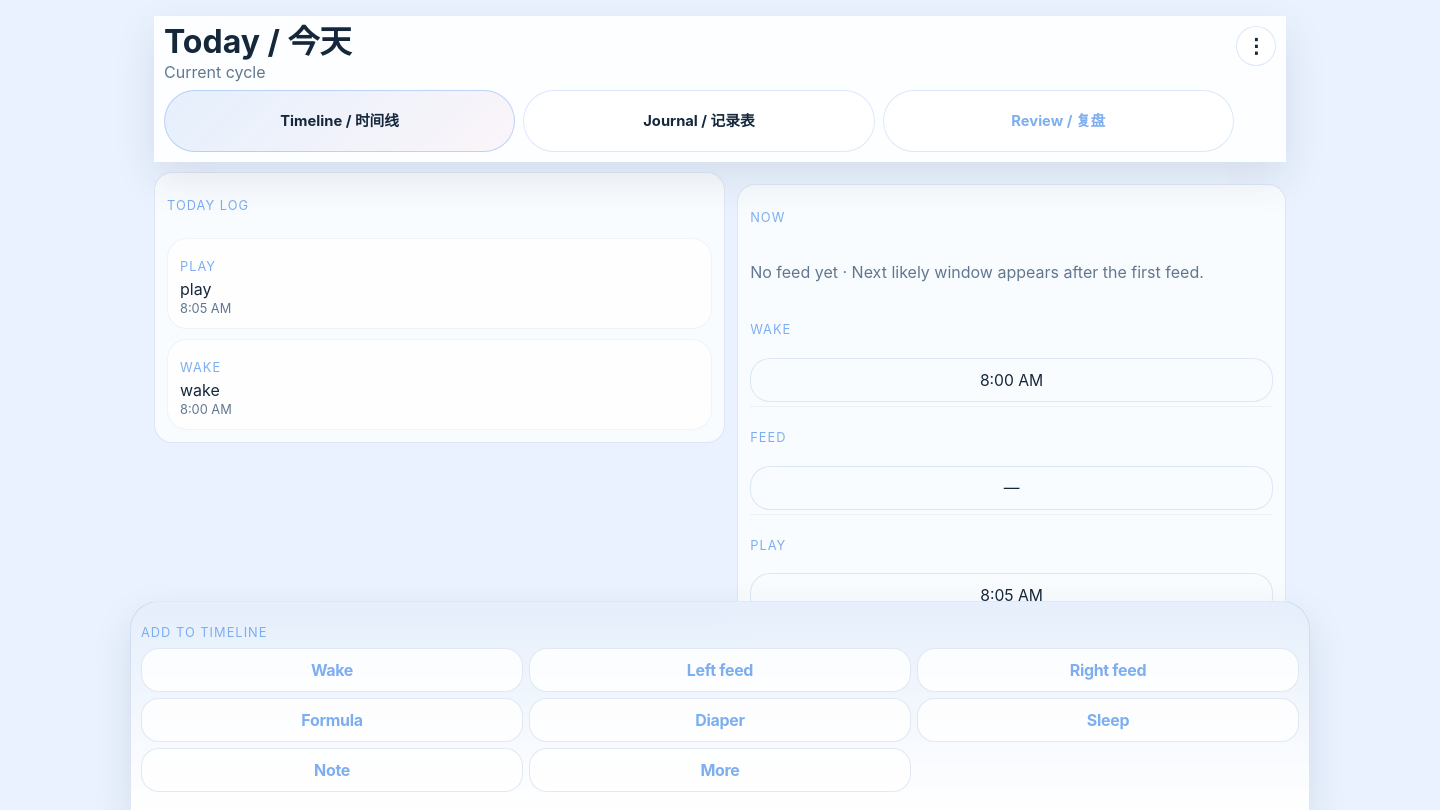
Test: correction delete parity › delete from Journal removes the value from Timeline and Journal projections
This screenshot has width=1440, height=810.
expect the list with test id "live-timeline-items" is shown: met, box [167,238,712,430]
Click the button "Journal / 记录表" at (699, 121), box [523,90,875,152]
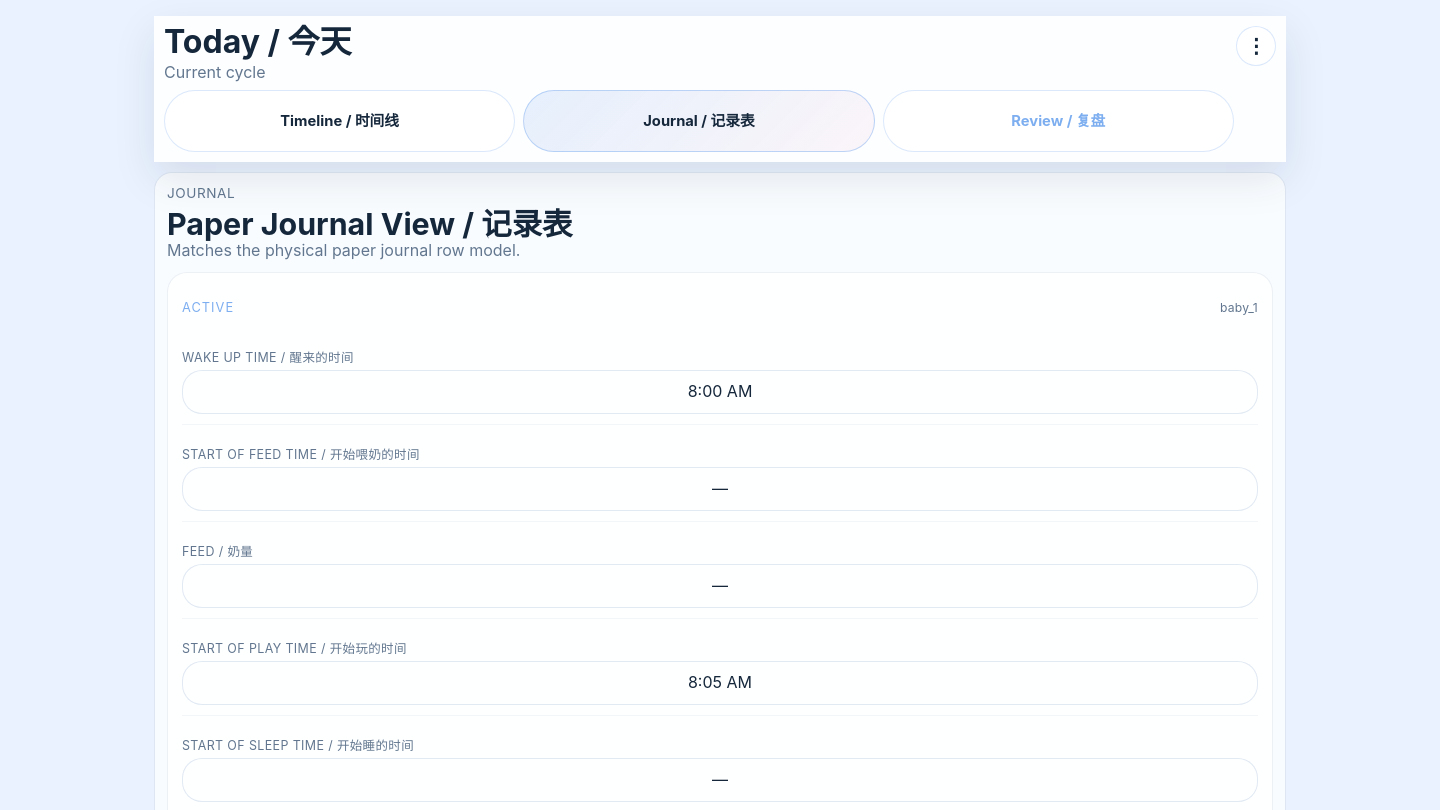
Click the button with test id "paper-journal-cell-wakeUpTime" at (720, 392), box [182,370,1258,414]
(page scrolled)
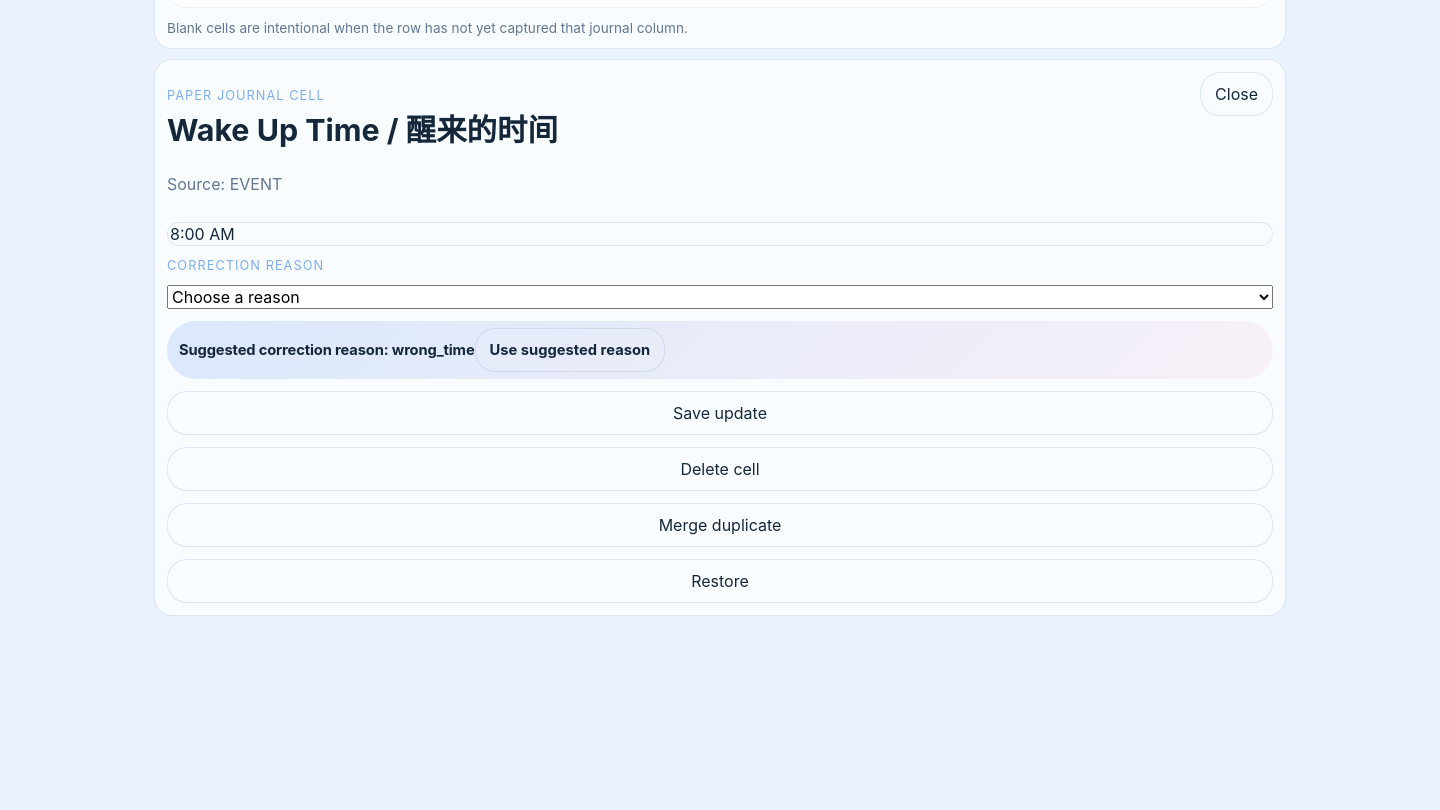
expect the element with test id "paper-journal-cell-edit-sheet" is shown: met, box [154,59,1286,616]
Click the button "Delete cell" at (720, 469), box [167,447,1273,491]
(page scrolled)
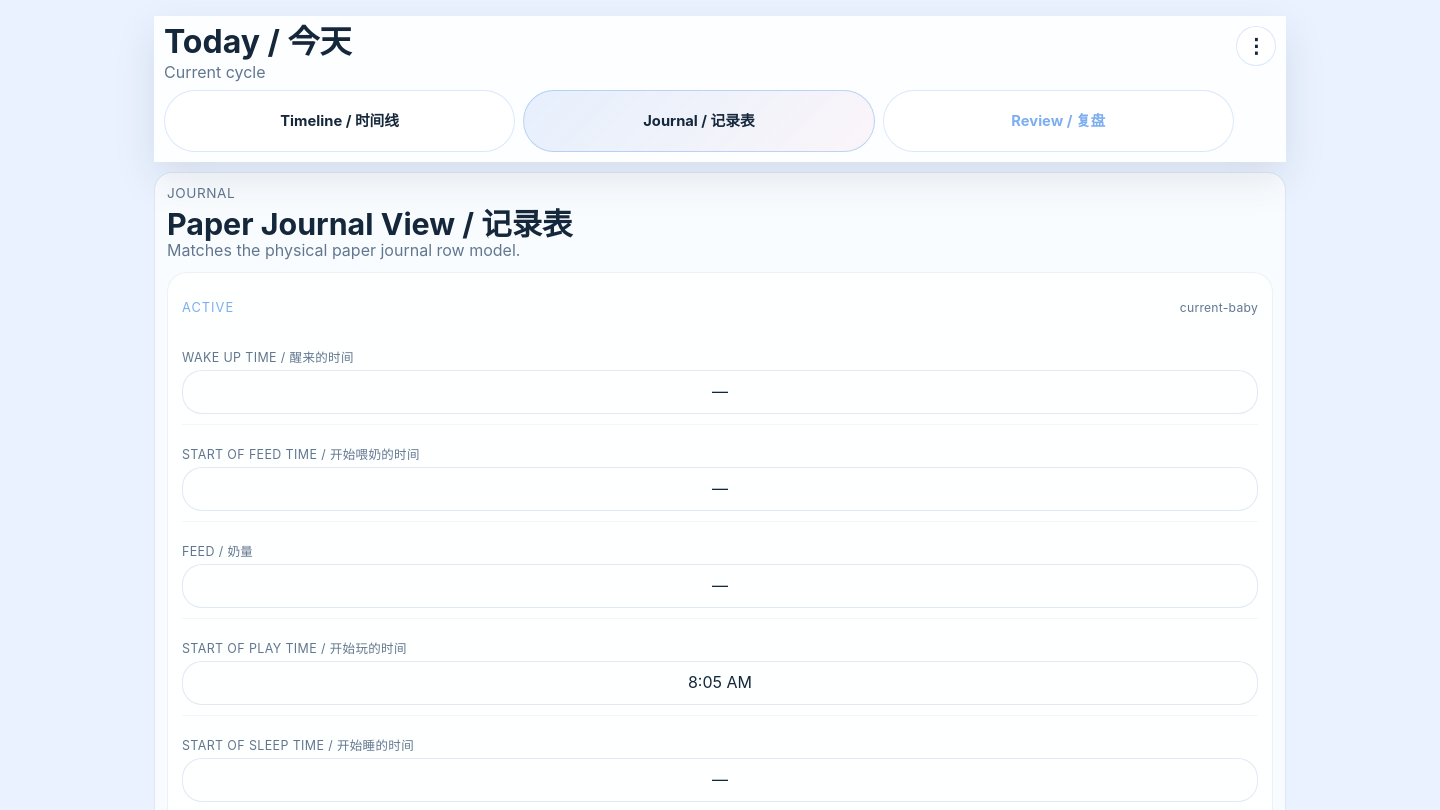
Click the button "Timeline / 时间线" at (340, 121), box [164,90,515,152]
(page scrolled)
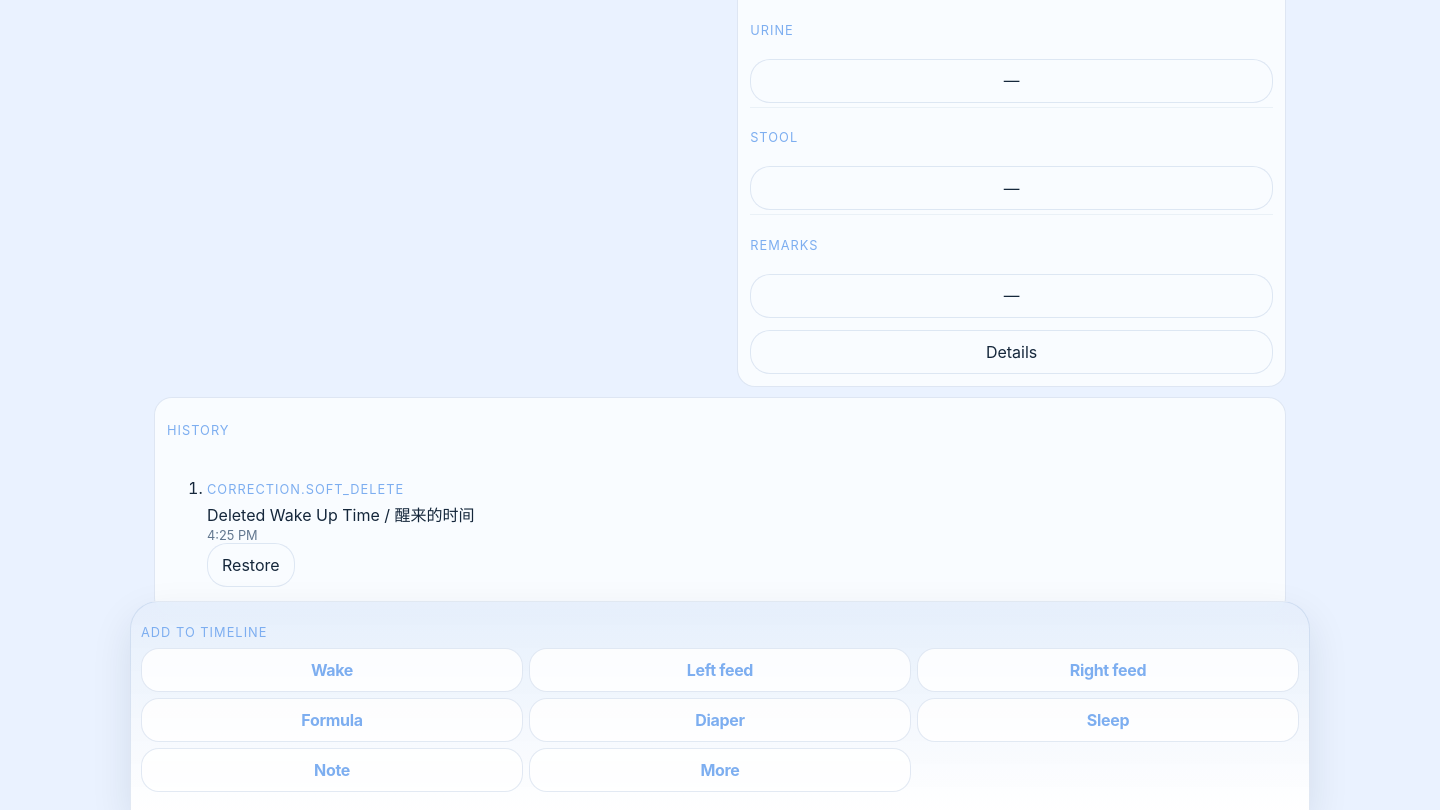
expect the list with test id "correction-history-items" shows "correction.soft_delete": met, box [207,482,404,497]
Click the button "Restore" at (251, 565), box [207,543,295,587]
(page scrolled)
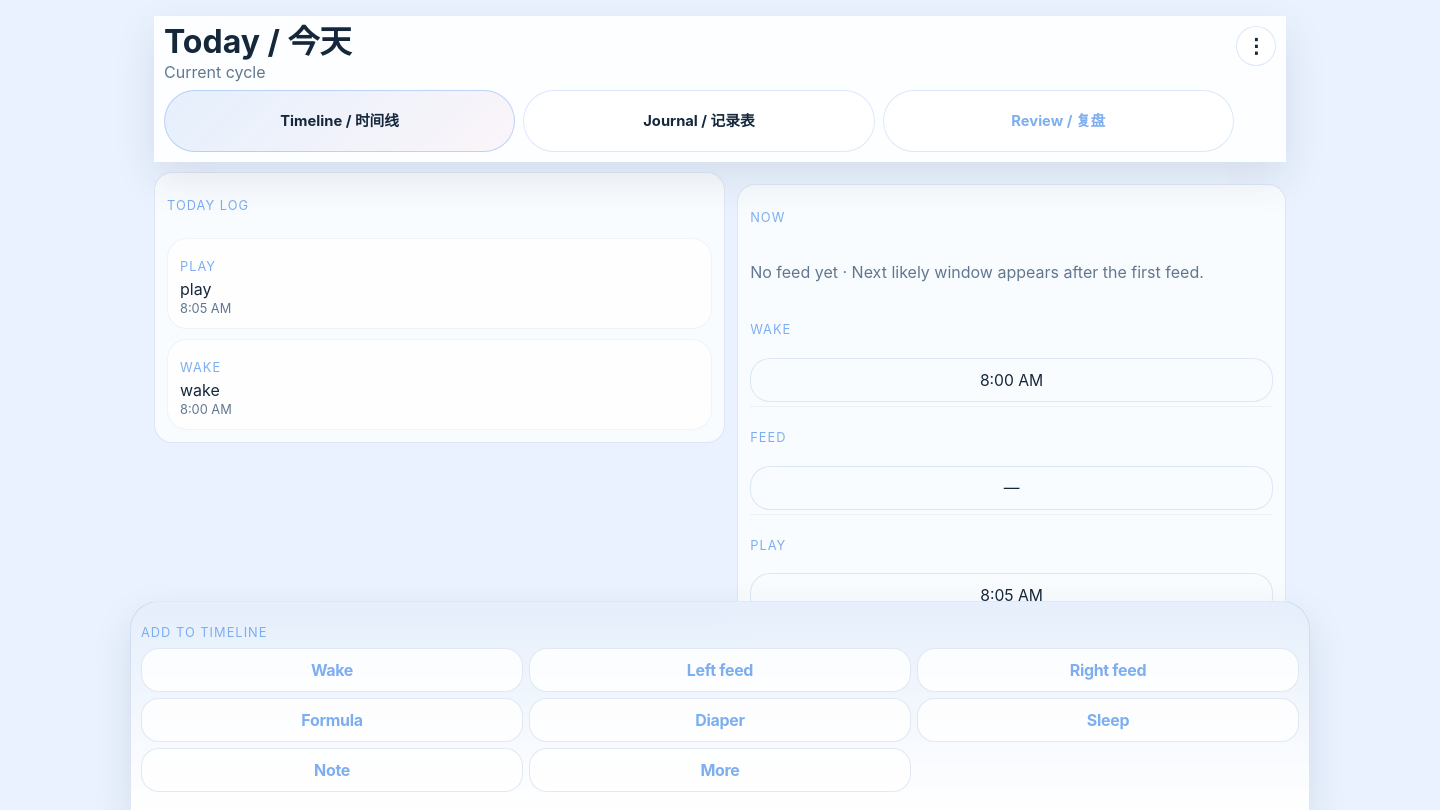
expect the button with test id "journal-summary-wakeUpTime" reads "8:00 AM": met, box [750,358,1273,402]
